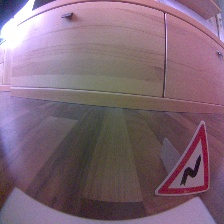vorsicht: (152, 116, 213, 198)
